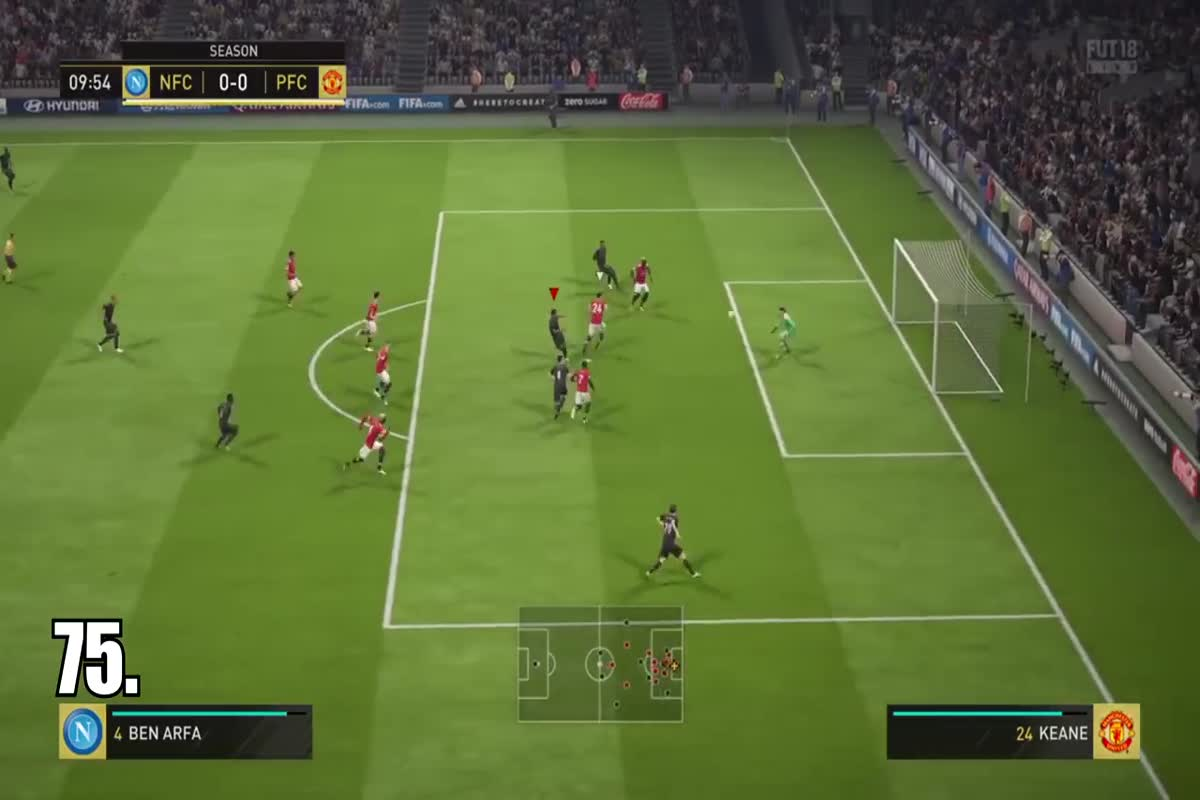ball: (719, 302, 742, 325)
